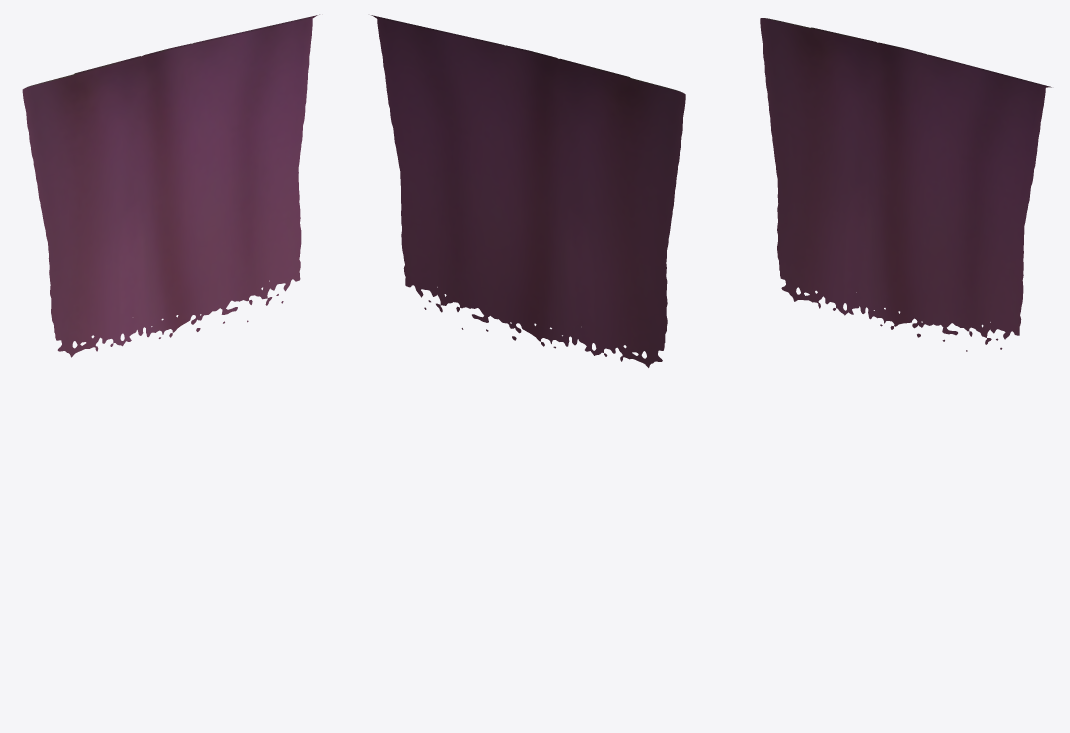
Rendered from broad_Curtain_001.FBX.
3 views of the same model, side by side, from view 1: azimuth 30°, elevation 25°; view 2: azimuth 150°, elevation 25°; view 3: azimuth 330°, elevation 25° (orthographic). The views are drawn at different scales.
Visible parts, largest first — view 1: broad_Curtain_001; view 2: broad_Curtain_001; view 3: broad_Curtain_001.
Boxes of the visible parts, <box> form: broad_Curtain_001: <box>22,14,319,357</box>; broad_Curtain_001: <box>371,15,685,367</box>; broad_Curtain_001: <box>760,18,1051,351</box>.
Bounding box in the file's own units: 443 × 860 × 71.13.
